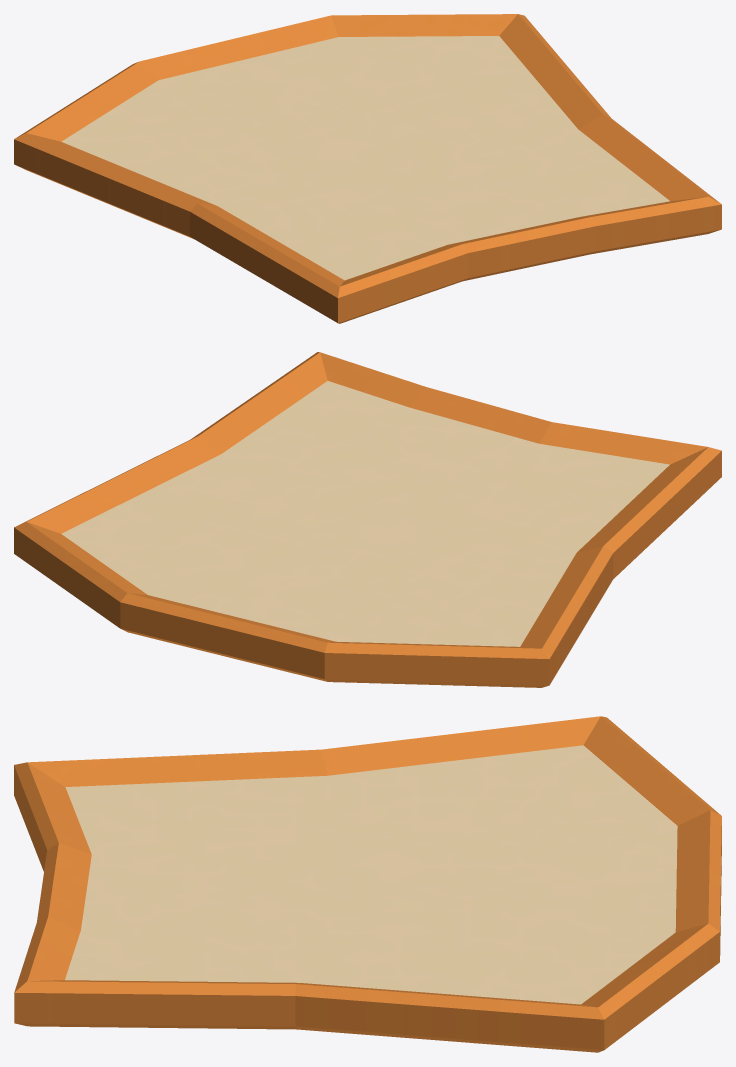
The model's file is Toast.fbx.
3 renders of one model, top to bottom at view 1: azimuth 30°, elevation 25°; view 2: azimuth 150°, elevation 25°; view 3: azimuth 270°, elevation 25°, orthographic. The views are drawn at different scales.
Visible parts, largest first — view 1: Toast; view 2: Toast; view 3: Toast.
Part boxes in pixels (<box>): Toast: <box>14,14,721,323</box>; Toast: <box>14,352,721,687</box>; Toast: <box>14,716,721,1052</box>.
Bounding box in the file's own units: 0.2428 × 0.017 × 0.2402.
